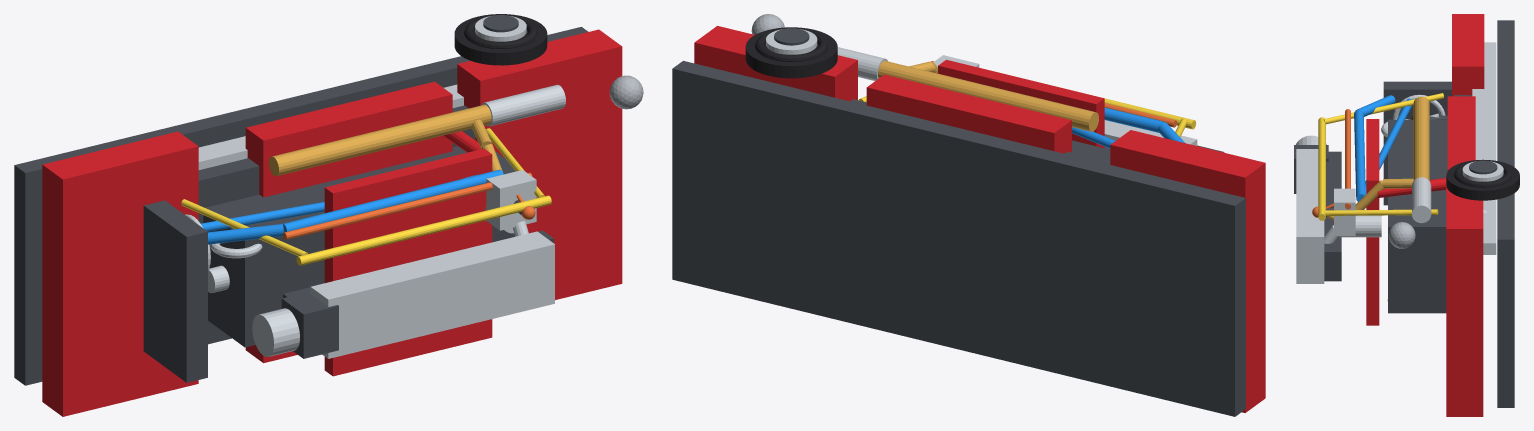
Rendered from ferrari_v12_exposed_engine.glb.
3 renders of one model, left to right at view 1: azimuth 30°, elevation 25°; view 2: azimuth 150°, elevation 25°; view 3: azimuth 270°, elevation 25°, orthographic. The views are drawn at different scales.
Parts seen in each view (by area): view 1: Front nose body, Rear body, V12 intake plenum, Cockpit roof, Carbon chassis floor, Cabin lower sill, V12 crankcase, Front radiator core, Exhaust collector, Engine cradle, Fuel rail, Throttle body (+13 smaller); view 2: Carbon chassis floor, Front nose body, Cabin lower sill, Rear body, Exhaust collector, Cockpit roof, Performance tire, Wheel sidewall, Tail exhaust pipe, Coolant return hose, Alloy wheel hub, V12 intake plenum; view 3: V12 crankcase, Rear body, Carbon chassis floor, V12 intake plenum, Chassis side rail, Front nose body, Cockpit roof, Cabin lower sill, Front radiator core, Intake valley, Performance tire, Exhaust collector (+19 smaller).
Boxes of the visible parts, x1,y1,x2,y2 form: Front nose body: [42, 131, 198, 416]; Rear body: [457, 29, 622, 299]; V12 intake plenum: [310, 231, 554, 358]; Cockpit roof: [324, 148, 492, 376]; Carbon chassis floor: [14, 27, 588, 385]; Cabin lower sill: [245, 81, 452, 363]; V12 crankcase: [203, 146, 515, 347]; Front radiator core: [143, 200, 207, 382]; Exhaust collector: [269, 104, 491, 176]; Engine cradle: [198, 105, 475, 344]; Fuel rail: [296, 195, 551, 265]; Throttle body: [281, 291, 338, 358]; Carbon chassis floor: [672, 60, 1245, 416]; Front nose body: [1110, 130, 1265, 412]; Cabin lower sill: [866, 74, 1071, 153]; Rear body: [694, 26, 857, 101]; Exhaust collector: [878, 60, 1098, 131]; Cockpit roof: [938, 59, 1104, 148]; Performance tire: [745, 27, 837, 78]; Wheel sidewall: [755, 28, 827, 61]; Tail exhaust pipe: [837, 47, 888, 80]; Coolant return hose: [1104, 107, 1164, 132]; Alloy wheel hub: [766, 29, 817, 54]; V12 intake plenum: [1104, 120, 1197, 145]; V12 crankcase: [1388, 119, 1447, 313]; Rear body: [1446, 174, 1483, 416]; Carbon chassis floor: [1497, 20, 1514, 407]; V12 intake plenum: [1296, 149, 1324, 283]; Chassis side rail: [1472, 42, 1496, 254]; Front nose body: [1452, 14, 1484, 96]; Cockpit roof: [1366, 119, 1379, 325]; Cabin lower sill: [1447, 96, 1475, 170]; Front radiator core: [1383, 81, 1451, 205]; Intake valley: [1324, 151, 1341, 281]; Performance tire: [1446, 159, 1519, 200]; Exhaust collector: [1413, 96, 1429, 180].
Size of the model in its own units: 4.8 by 2.17 by 2.09.
